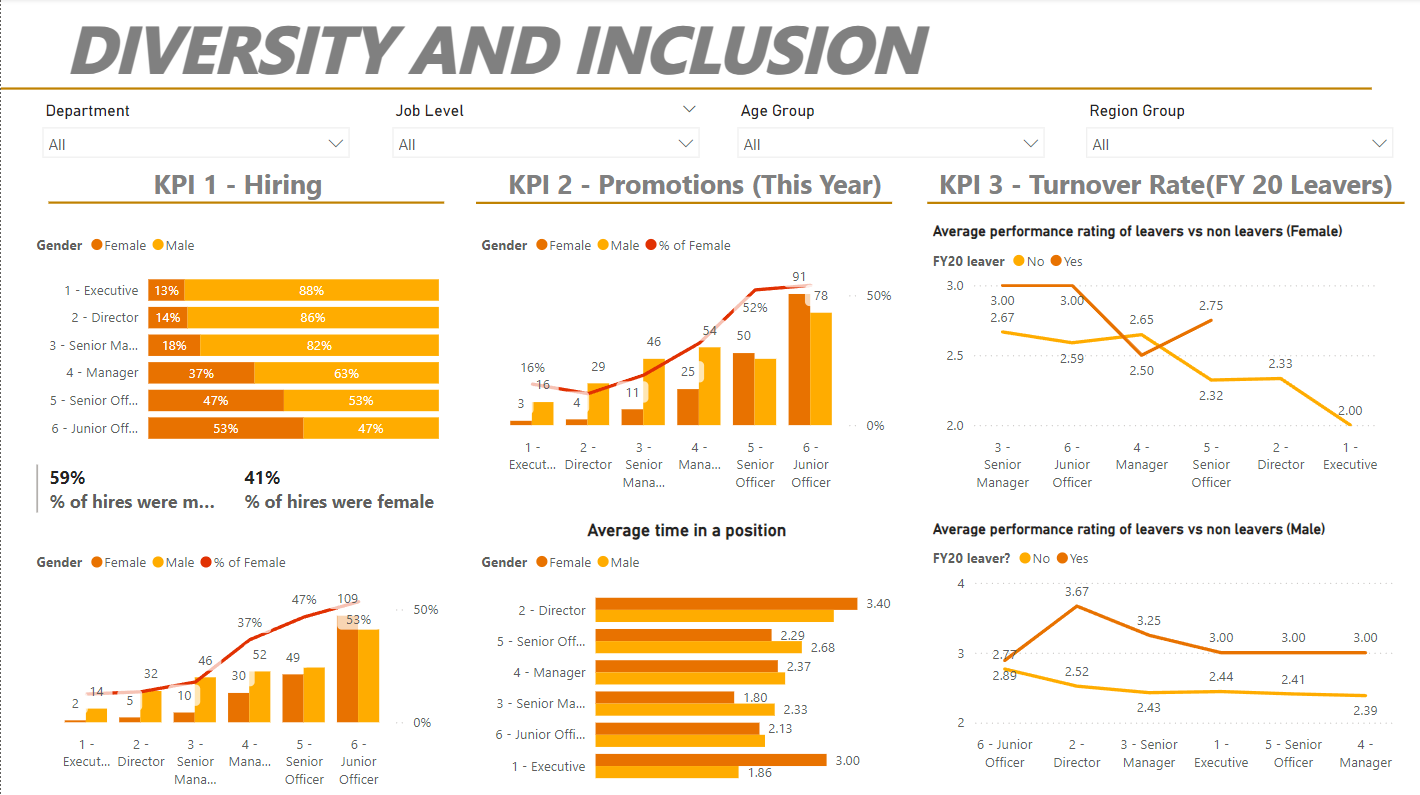

The dashboard page shown, as its layout file describes it:
{"tool":"powerbi","page":{"name":"Page 1","canvas":[1280,720],"ordinal":0},"visuals":[{"type":"textbox","box":[9.8,0,869.4,88],"z":0},{"type":"slicer","fields":{"Values":["Pharma Group AG.Department @01.07.2020"]},"box":[26.9,88,297.1,58.7],"z":1000},{"type":"slicer","fields":{"Values":["Pharma Group AG.Region group: nationality 1"]},"box":[968.5,88,297.1,58.7],"z":2000},{"type":"slicer","fields":{"Values":["Pharma Group AG.Job Level after FY20 promotions"]},"box":[342.4,88,297.1,58.7],"z":3000},{"type":"slicer","fields":{"Values":["Pharma Group AG.Age group"]},"box":[654.2,88,297.1,58.7],"z":4000},{"type":"hundredPercentStackedBarChart","title":"Hiring","fields":{"Category":["Pharma Group AG.Job Level after FY20 promotions"],"Y":["CountNonNull(Pharma Group AG.Employee ID)"],"Series":["Pharma Group AG.Gender"]},"box":[26.9,203,373,210.3],"z":5000},{"type":"lineClusteredColumnComboChart","fields":{"Category":["Pharma Group AG.Job Level after FY20 promotions"],"Y":["CountNonNull(Pharma Group AG.Employee ID)"],"Series":["Pharma Group AG.Gender"],"Y2":["Pharma Group AG.% of Female"]},"box":[26.9,489.1,373,231.1],"z":6000},{"type":"multiRowCard","fields":{"Values":["Pharma Group AG.% of Male","Pharma Group AG.% of Female"]},"box":[26.9,415.8,373,73.4],"z":7000},{"type":"lineClusteredColumnComboChart","fields":{"Y":["CountNonNull(Pharma Group AG.Employee ID)"],"Series":["Pharma Group AG.Gender"],"Y2":["Pharma Group AG.% of Female"],"Category":["Pharma Group AG.Job Level after FY21 promotions"]},"box":[428,203,380.3,249.5],"z":7001},{"type":"clusteredBarChart","title":"Average time in a position","fields":{"Category":["Pharma Group AG.Job Level after FY20 promotions"],"Y":["Avg(Pharma Group AG.Time in Job Level @01.07.2020)"],"Series":["Pharma Group AG.Gender"]},"box":[428,470.8,380.3,249.5],"z":7002},{"type":"shape","box":[0,75.8,1236.3,12.2],"z":7003},{"type":"lineChart","title":"Average performance rating of leavers vs non leavers (Female)","fields":{"Category":["Pharma Group AG.Job Level after FY20 promotions"],"Y":["Avg(Pharma Group AG.FY19 Performance Rating)"],"Series":["Pharma Group AG.FY20 leaver?"]},"box":[835.2,203,415.8,249.5],"z":7004},{"type":"lineChart","title":"Average performance rating of leavers vs non leavers (Male)","fields":{"Category":["Pharma Group AG.Job Level after FY20 promotions"],"Y":["Avg(Pharma Group AG.FY19 Performance Rating)"],"Series":["Pharma Group AG.FY20 leaver?"]},"box":[835.2,470.8,430.4,249.5],"z":7005},{"type":"textbox","box":[26.9,146.7,373,56.3],"z":7006},{"type":"textbox","box":[428,146.7,395,56.3],"z":7007},{"type":"textbox","box":[835.2,146.7,430.4,56.3],"z":7008},{"type":"shape","box":[42.8,174.9,357.1,19.6],"z":7009},{"type":"shape","box":[428,165.1,375.4,40.4],"z":7010},{"type":"shape","box":[835.2,165.1,430.4,40.4],"z":7011}]}

Visuals, with their boxes in screenshot pixels (x1, y1, x2, y2), scaled from the page's 1280x720 canvas onto the 1420x795 screenshot:
textbox: {"x1": 11, "y1": 0, "x2": 975, "y2": 97}
slicer - Pharma Group AG.Department @01.07.2020: {"x1": 30, "y1": 97, "x2": 359, "y2": 162}
slicer - Pharma Group AG.Region group: nationality 1: {"x1": 1074, "y1": 97, "x2": 1404, "y2": 162}
slicer - Pharma Group AG.Job Level after FY20 promotions: {"x1": 380, "y1": 97, "x2": 709, "y2": 162}
slicer - Pharma Group AG.Age group: {"x1": 726, "y1": 97, "x2": 1055, "y2": 162}
"Hiring" hundredPercentStackedBarChart: {"x1": 30, "y1": 224, "x2": 444, "y2": 456}
lineClusteredColumnComboChart - Pharma Group AG.Job Level after FY20 promotions x CountNonNull(Pharma Group AG.Employee ID): {"x1": 30, "y1": 540, "x2": 444, "y2": 794}
multiRowCard - Pharma Group AG.% of Male x Pharma Group AG.% of Female: {"x1": 30, "y1": 459, "x2": 444, "y2": 540}
lineClusteredColumnComboChart - CountNonNull(Pharma Group AG.Employee ID) x Pharma Group AG.Gender: {"x1": 475, "y1": 224, "x2": 897, "y2": 500}
"Average time in a position" clusteredBarChart: {"x1": 475, "y1": 520, "x2": 897, "y2": 794}
shape: {"x1": 0, "y1": 84, "x2": 1372, "y2": 97}
"Average performance rating of leavers vs non leavers (Female)" lineChart: {"x1": 927, "y1": 224, "x2": 1388, "y2": 500}
"Average performance rating of leavers vs non leavers (Male)" lineChart: {"x1": 927, "y1": 520, "x2": 1404, "y2": 794}
textbox: {"x1": 30, "y1": 162, "x2": 444, "y2": 224}
textbox: {"x1": 475, "y1": 162, "x2": 913, "y2": 224}
textbox: {"x1": 927, "y1": 162, "x2": 1404, "y2": 224}
shape: {"x1": 47, "y1": 193, "x2": 444, "y2": 215}
shape: {"x1": 475, "y1": 182, "x2": 891, "y2": 227}
shape: {"x1": 927, "y1": 182, "x2": 1404, "y2": 227}
